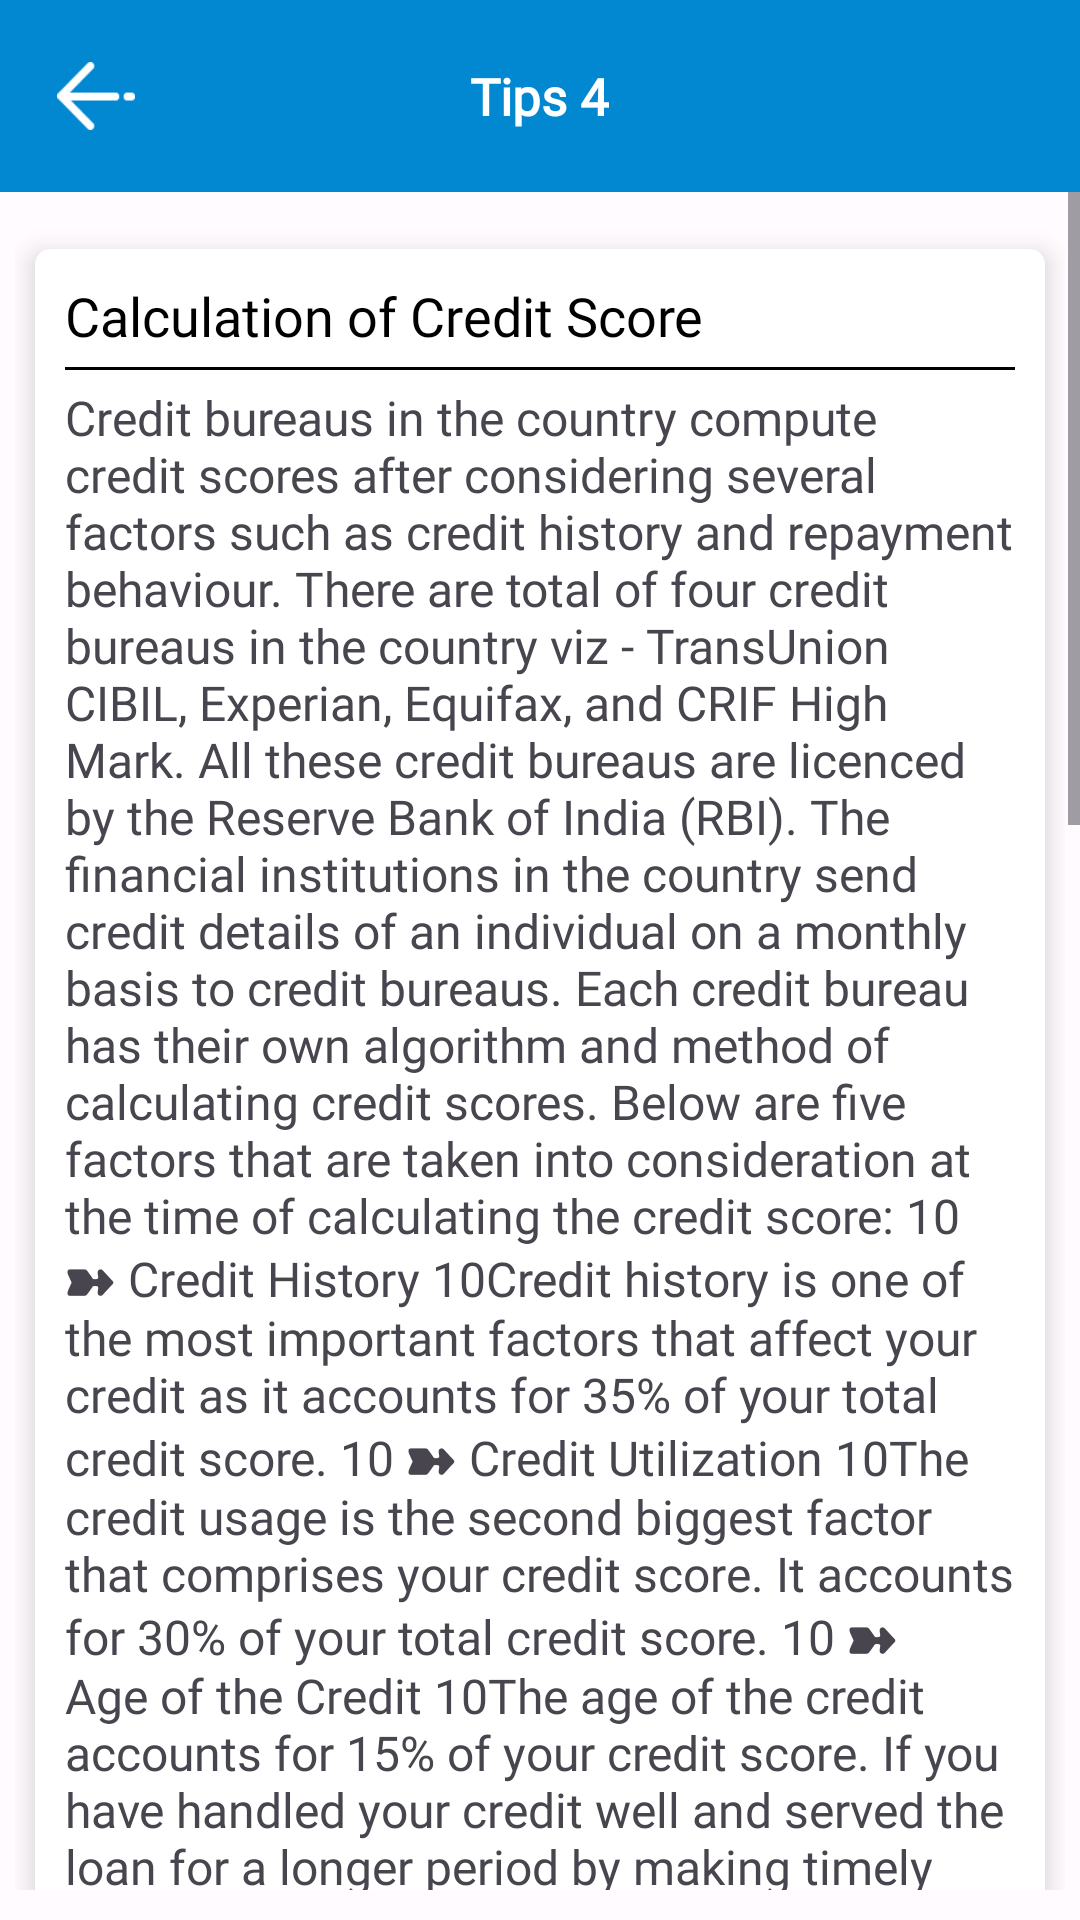

Where to tap for icons on this 1080*1920 app screen, as (x,y):
back: (96,96)
